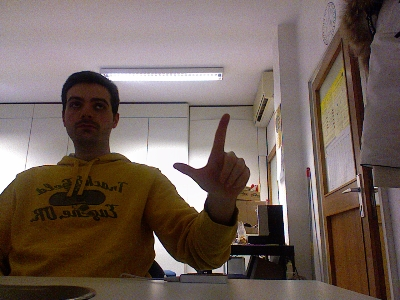枪: (170, 111, 252, 197)
